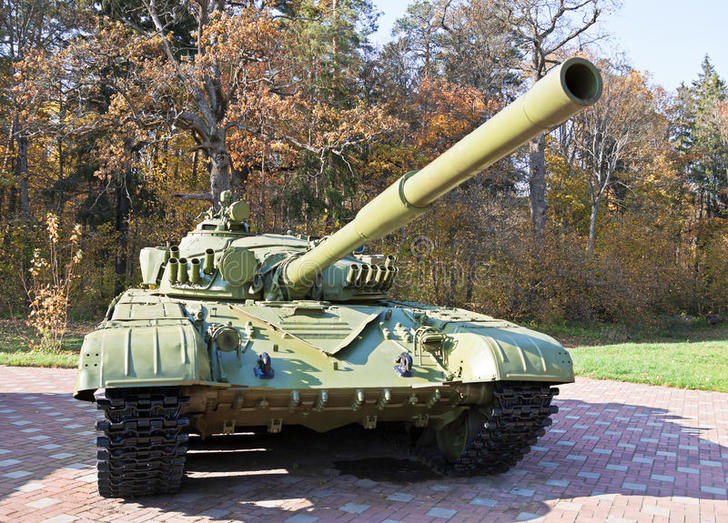t72: (83, 167, 573, 481)
